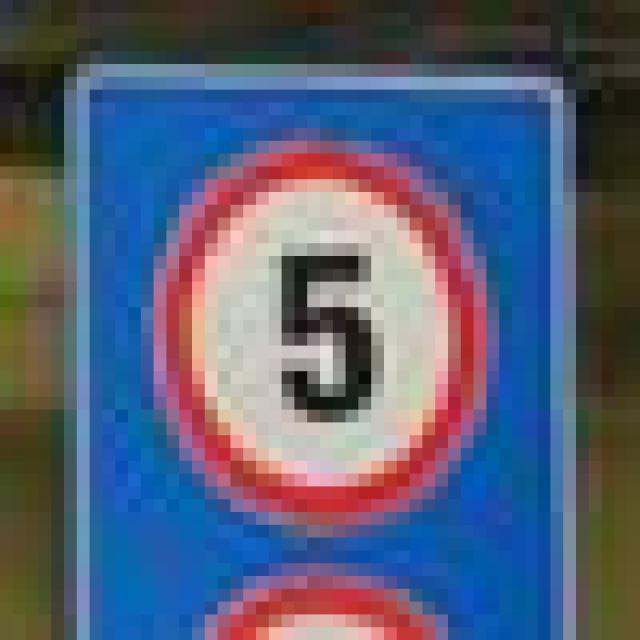speed_limit_20: (128, 128, 474, 525)
